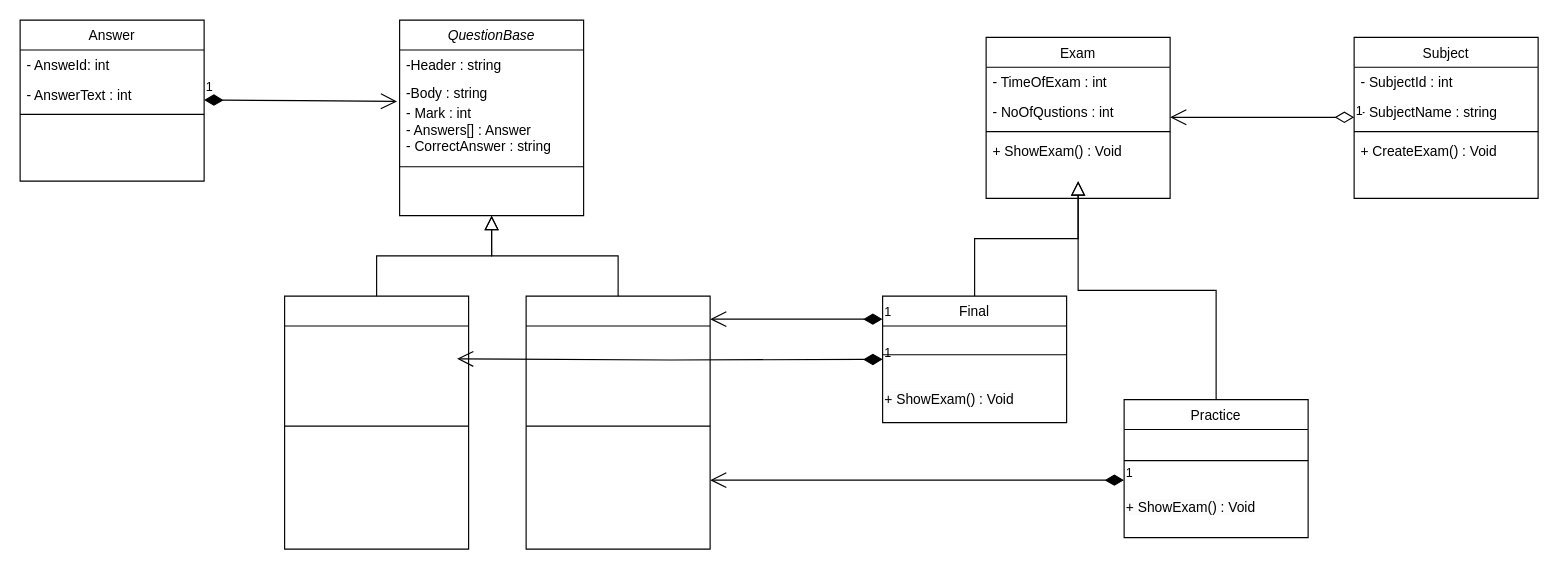
The diagram is 1558 pixels wide and 569 high, and some of its shapes have lost their labels. The centre of each missing label's shape, as x and y in pixels:
MCQ: the point at 617,422
TrueFalse: the point at 376,422
